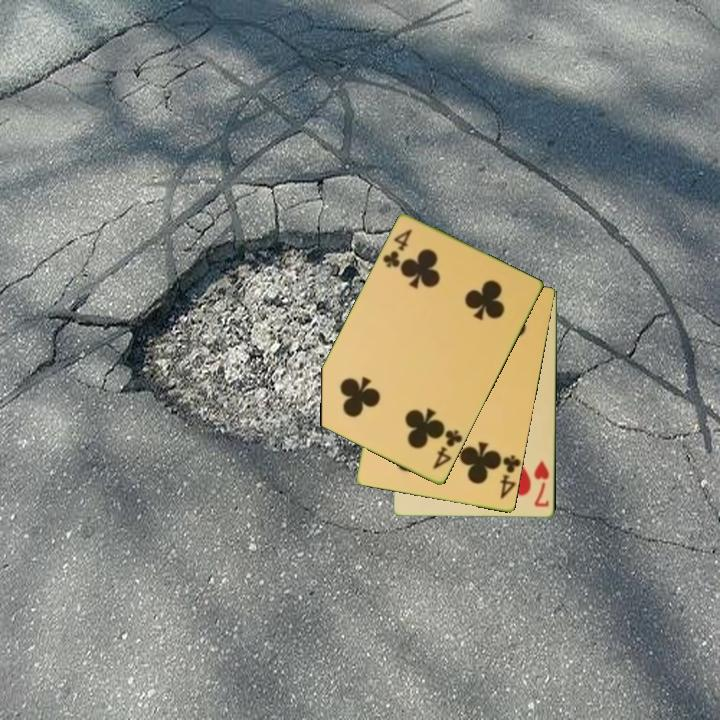4c: (429, 425, 466, 473), (379, 226, 415, 271), (497, 452, 522, 502)
7h: (531, 457, 552, 510)
